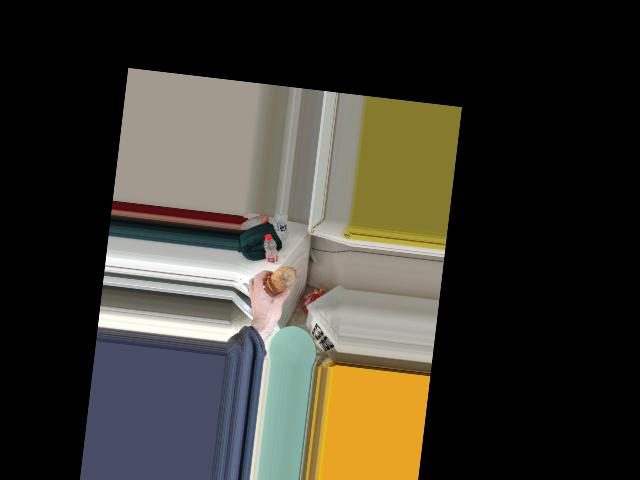sweet_potato: (263, 264, 295, 300)
